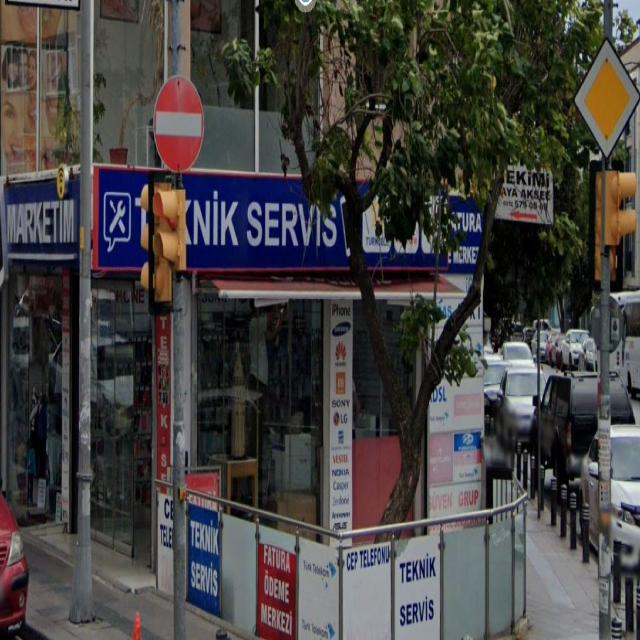girisyok: (154, 76, 203, 171)
